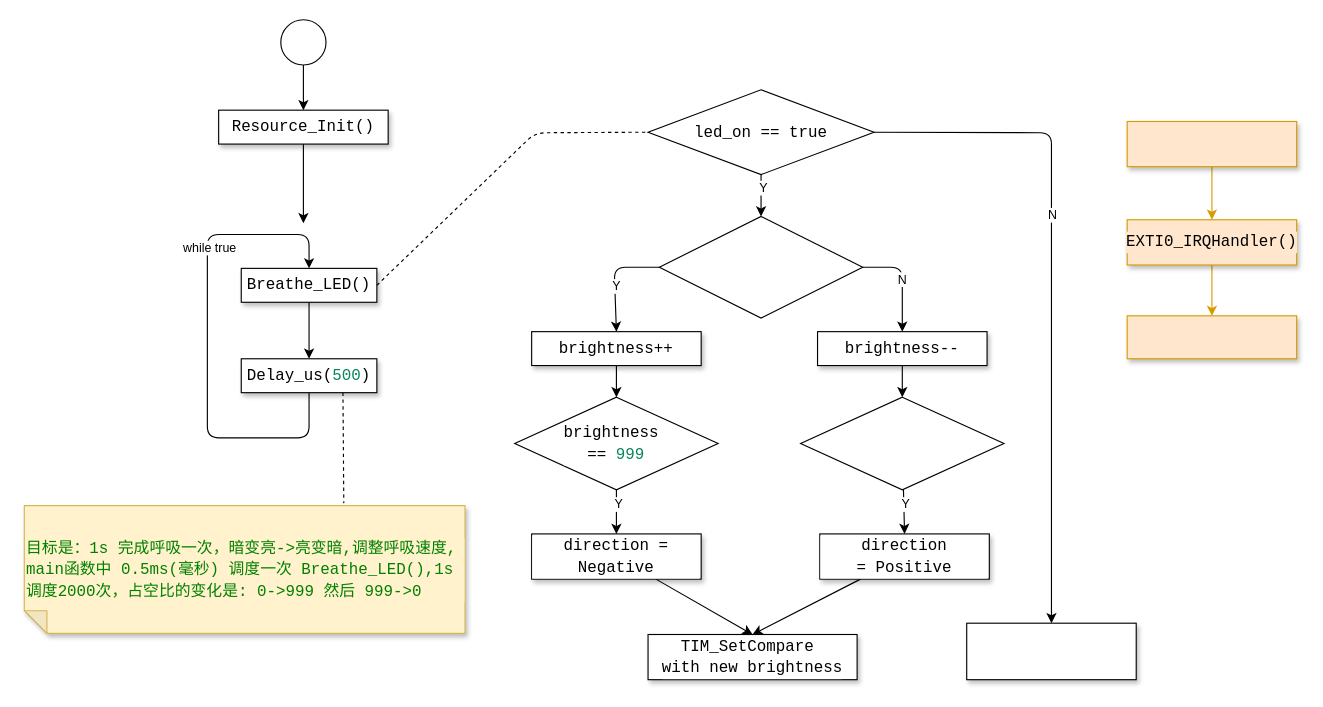
Some shapes in this 1323 by 707 pixel diagram are drawn without their labels. Each missing label, with the centre of its shape:
brightness == 0: pixel 901 443
direction == Positive: pixel 760 266
led_on = !led_on;: pixel 1212 338
Start: pixel 303 42
TIM_SetCompare with 0: pixel 1052 653
外部按钮触发中断: pixel 1212 145
